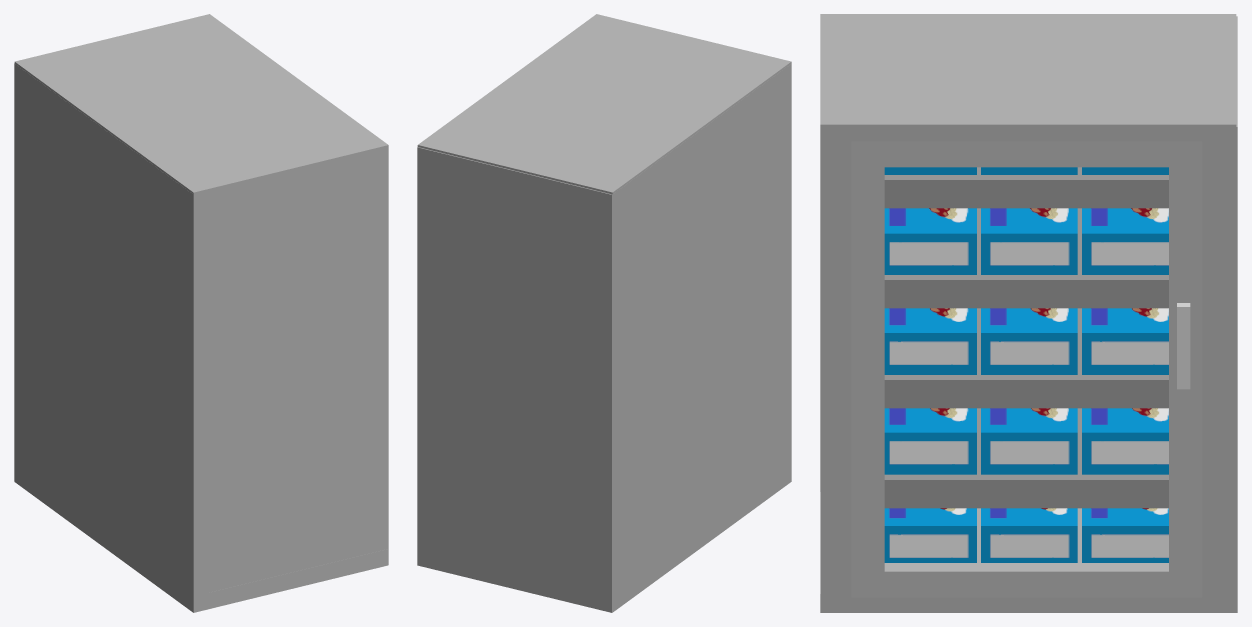
Rendered from spaghetti_fridge.gltf.
3 views of the same model, side by side, from view 1: azimuth 30°, elevation 25°; view 2: azimuth 150°, elevation 25°; view 3: azimuth 270°, elevation 25° (orthographic). The views are drawn at different scales.
Parts seen in each view (by area): view 1: fridge.box; view 2: fridge.box; view 3: fridge.box, Lasagna, fridge.door.
Boxes of the visible parts, <box> form: fridge.box: <box>14,14,388,612</box>; fridge.box: <box>417,14,791,612</box>; fridge.box: <box>820,14,1237,612</box>; Lasagna: <box>884,167,1168,562</box>; fridge.door: <box>851,141,1202,597</box>.
Bounding box in the file's own units: 5.63 × 11.15 × 8.63.
6 materials, 1 textured.
